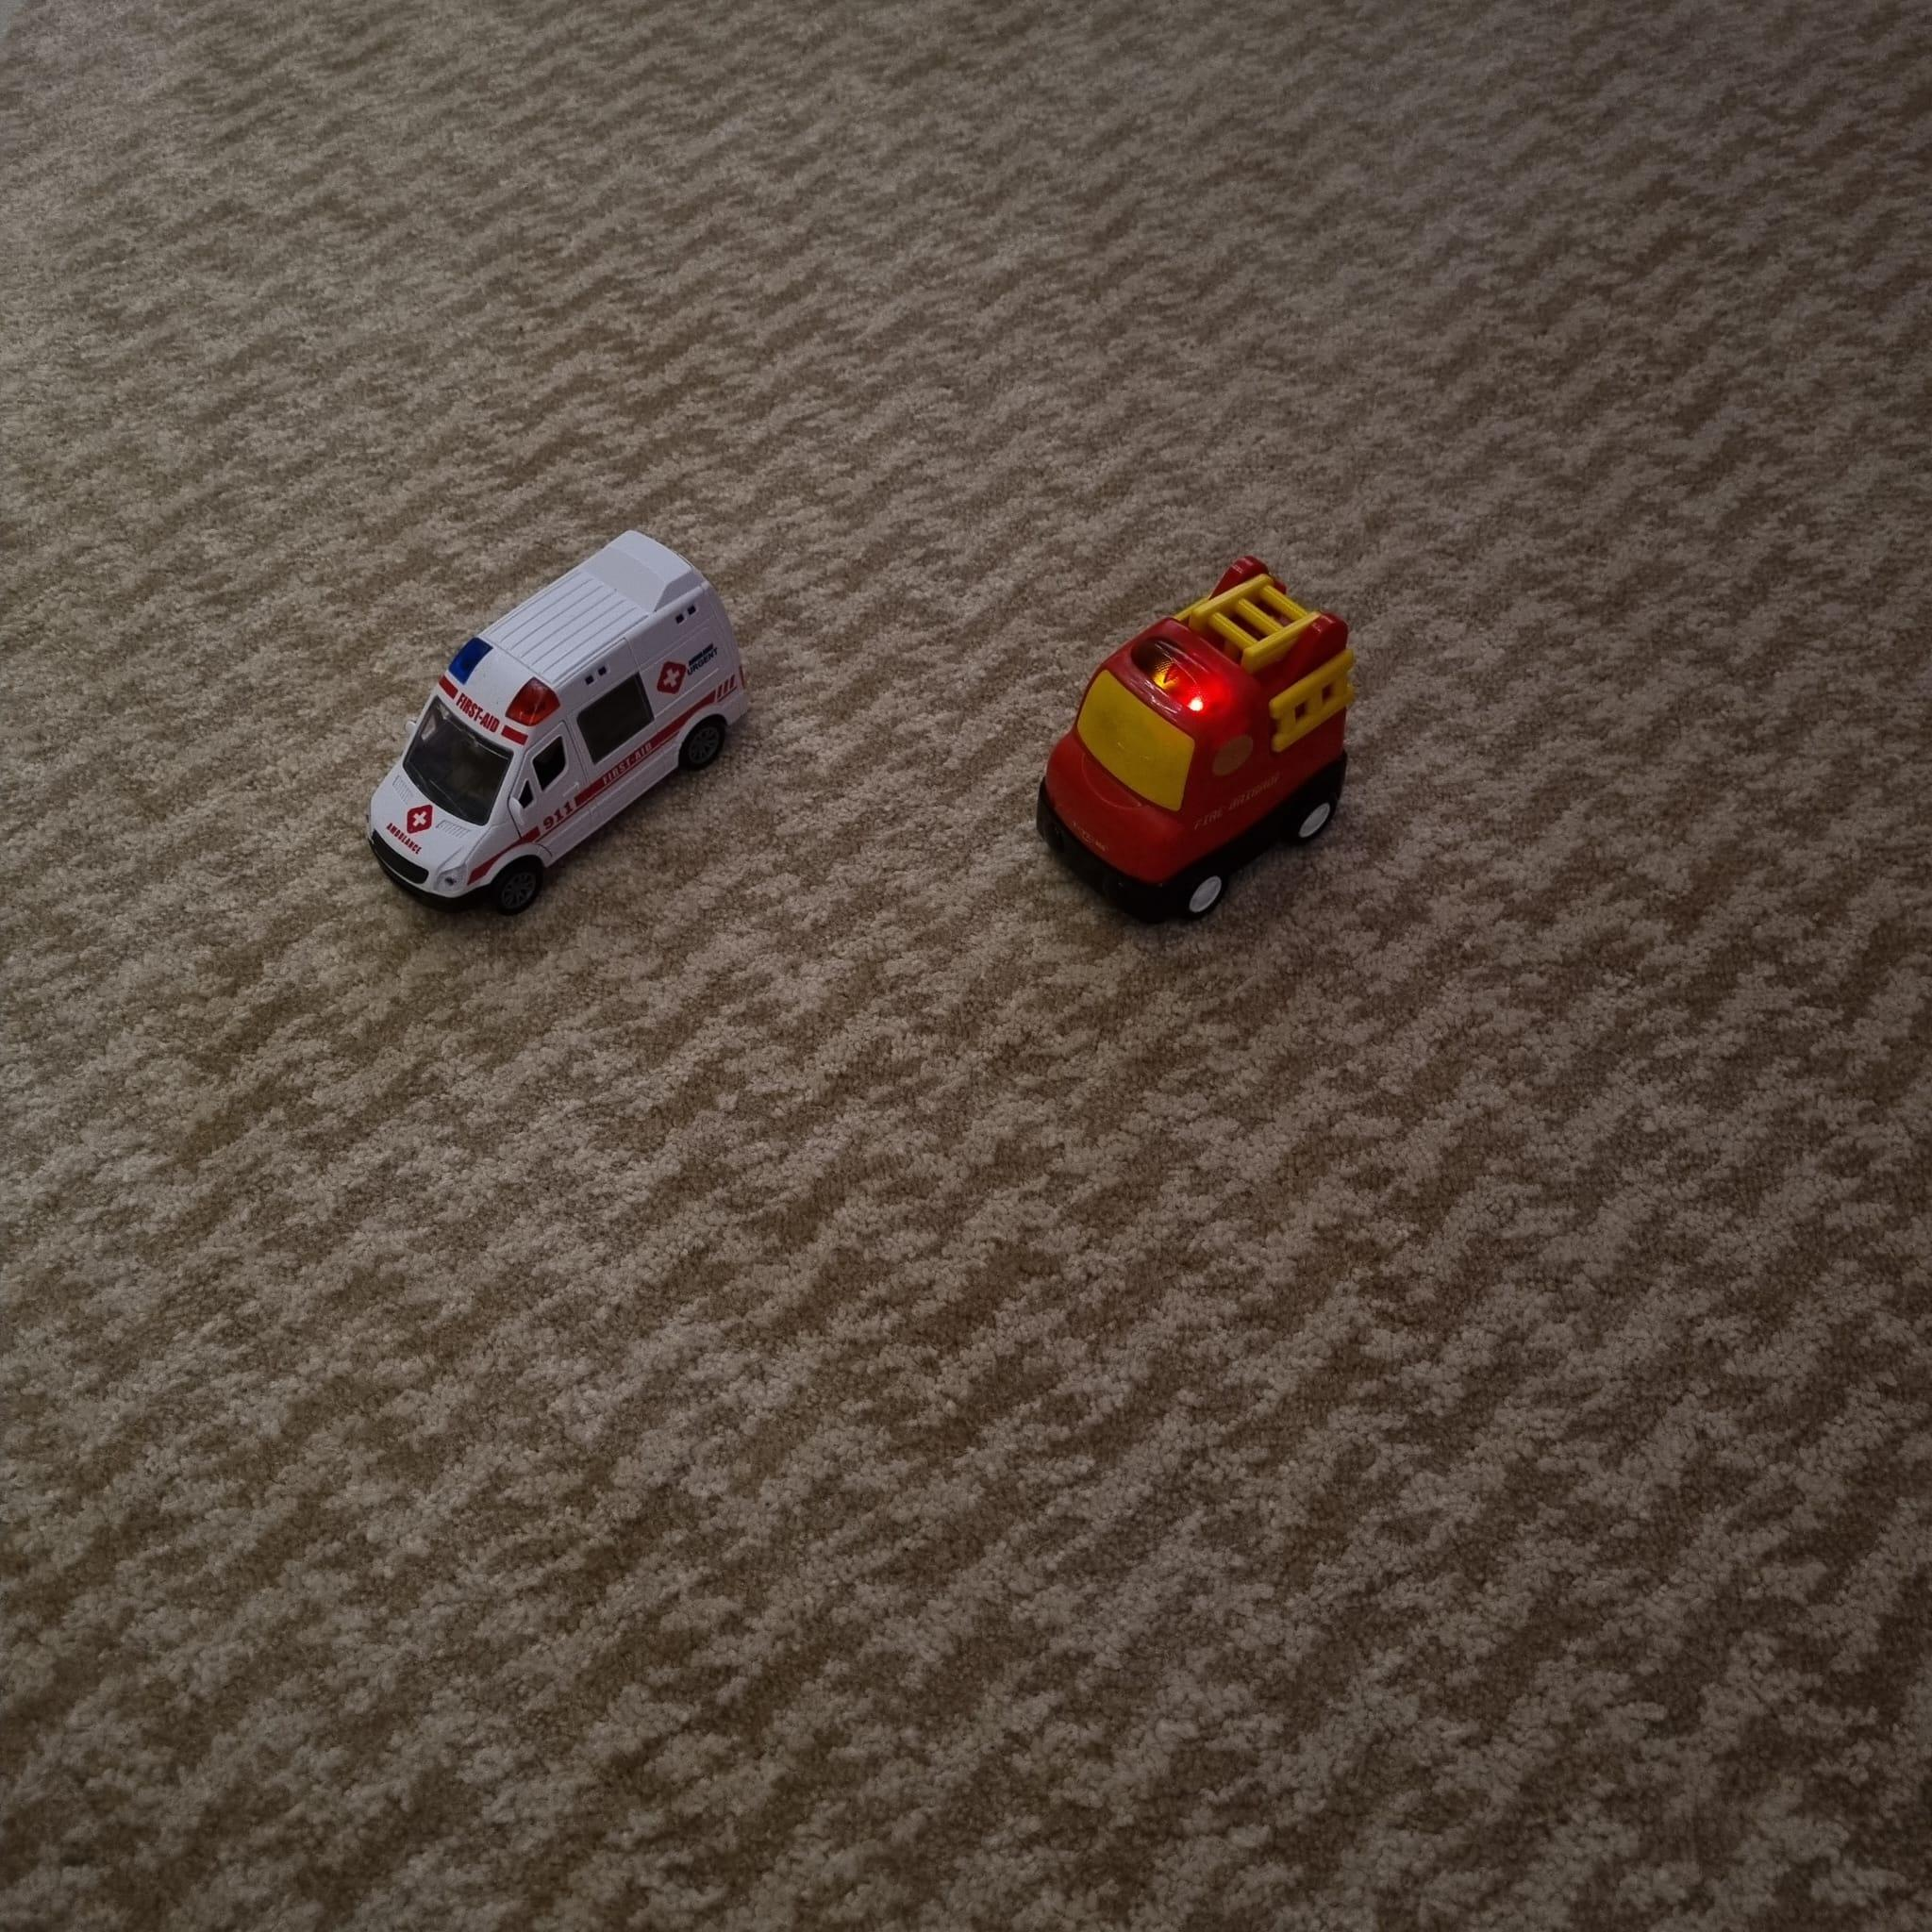ambulance_off: (366, 529, 743, 915)
firetruck_on: (1039, 557, 1352, 925)
